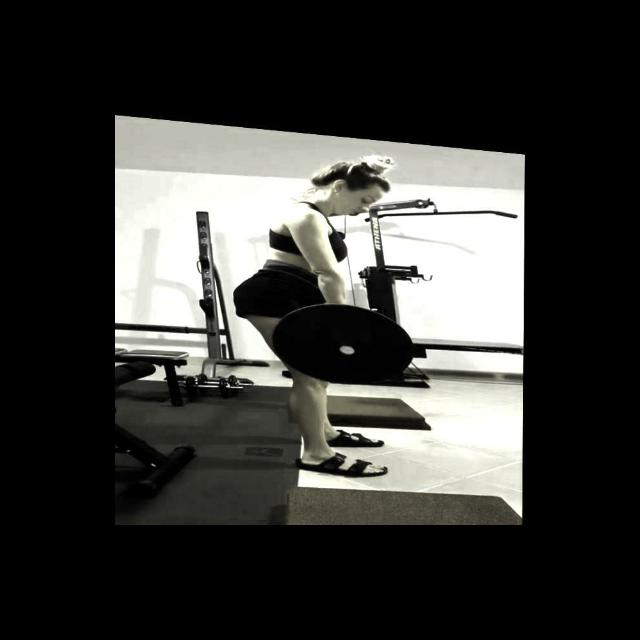barbell: (270, 293, 417, 388)
